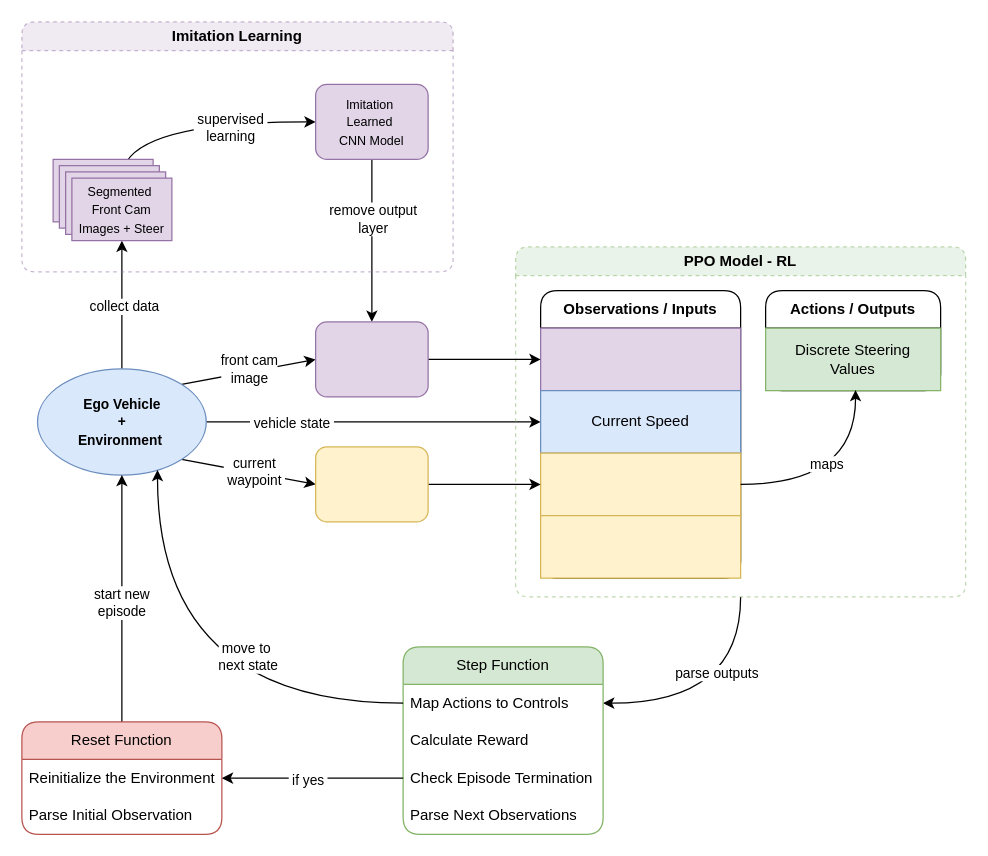
Image size: 988x856. Some labels were removed from this diagram. Each missing label, with the centre of its shape:
Angle to Next Waypoint: [640,546]
Distance to Next Waypoint: [640,484]
Extracted Image Features: [640,359]
Feature Extraction Model: [371,359]
Planned Path (Waypoint List): [371,484]
